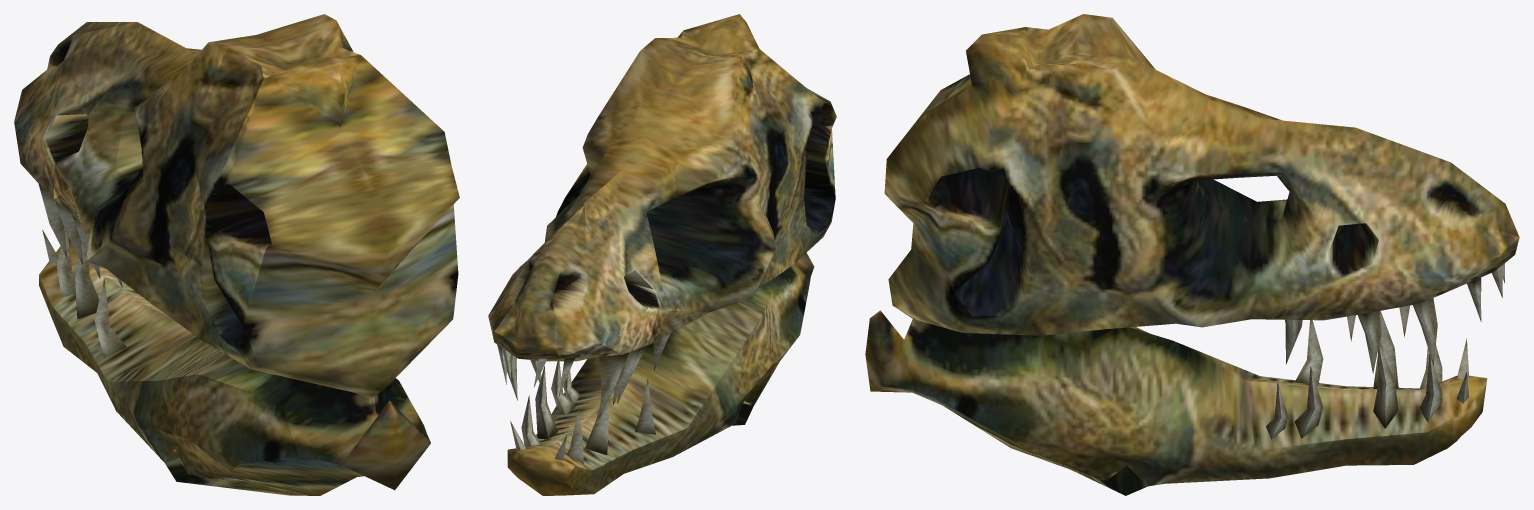
File: hr_bone2.glb
3 views of the same model, side by side, from view 1: azimuth 30°, elevation 25°; view 2: azimuth 150°, elevation 25°; view 3: azimuth 270°, elevation 25° (orthographic). The views are drawn at different scales.
Visible parts, largest first — view 1: hr_bone2-col; view 2: hr_bone2-col; view 3: hr_bone2-col.
Part boxes in pixels (x1=…): hr_bone2-col: x1=14, y1=14, x2=459, y2=495; hr_bone2-col: x1=488, y1=14, x2=836, y2=495; hr_bone2-col: x1=865, y1=14, x2=1519, y2=495.
Size of the model in its own units: 2.87 by 4.7 by 6.4.
1 material, 1 textured.
